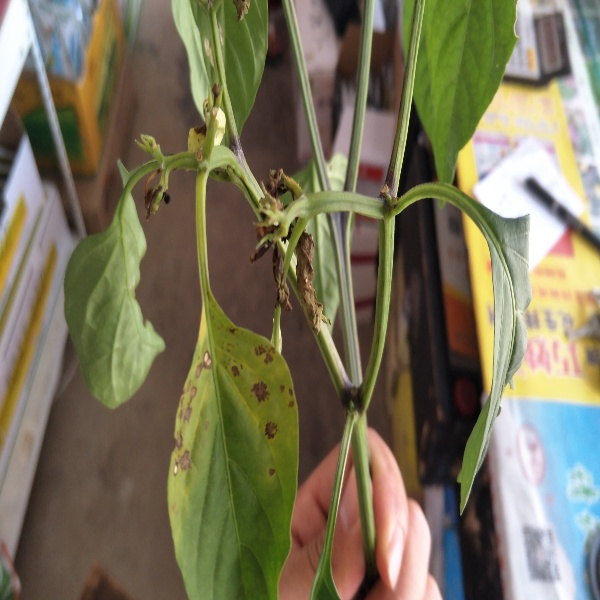Anthrax: (162, 315, 299, 600)
blight: (250, 166, 333, 335), (368, 168, 416, 218), (134, 168, 174, 222), (332, 371, 374, 422)
